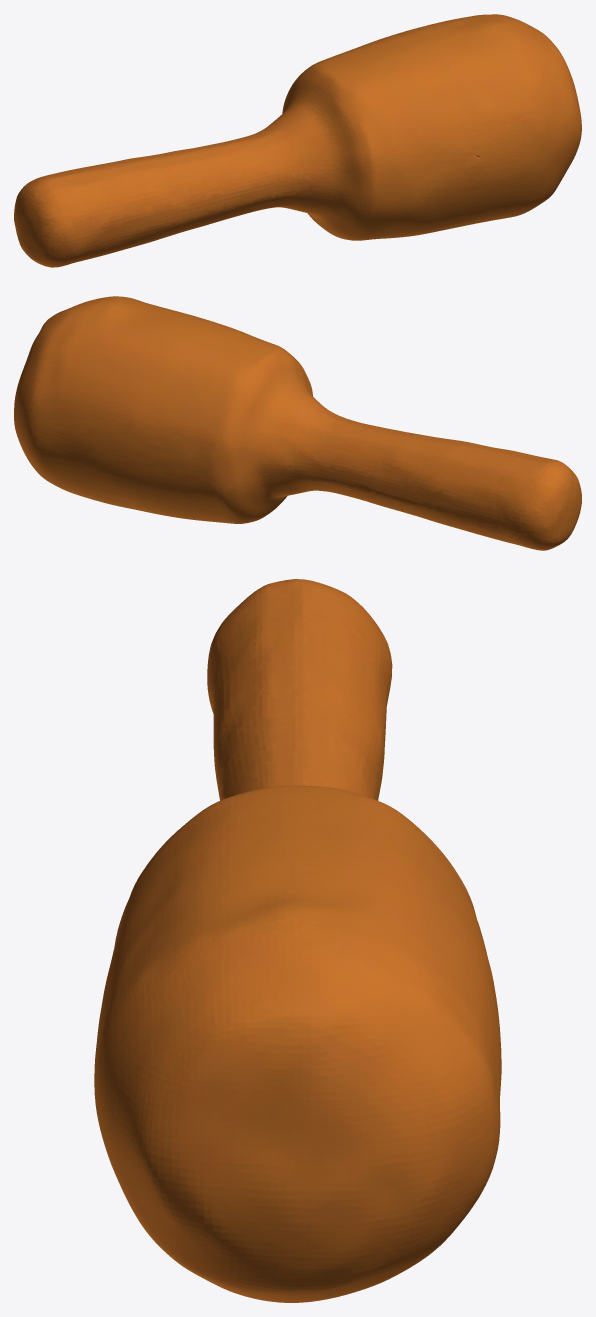
Rendered from reflex-hammer.glb.
The picture shows the model from 3 angles, top to bottom: view 1: azimuth 30°, elevation 25°; view 2: azimuth 150°, elevation 25°; view 3: azimuth 270°, elevation 25°; orthographic projection. The views are drawn at different scales.
Visible parts, largest first — view 1: tripo_node_b648c7fd-1655-4bc8-8b5c-b13918868b0b; view 2: tripo_node_b648c7fd-1655-4bc8-8b5c-b13918868b0b; view 3: tripo_node_b648c7fd-1655-4bc8-8b5c-b13918868b0b.
Part boxes in pixels (x1,y1,x2,y2): tripo_node_b648c7fd-1655-4bc8-8b5c-b13918868b0b: (14,14,581,267); tripo_node_b648c7fd-1655-4bc8-8b5c-b13918868b0b: (14,296,581,550); tripo_node_b648c7fd-1655-4bc8-8b5c-b13918868b0b: (94,579,501,1302).
Bounding box in the file's own units: 0.9805 × 0.3286 × 0.3238.
1 material, 1 textured.
